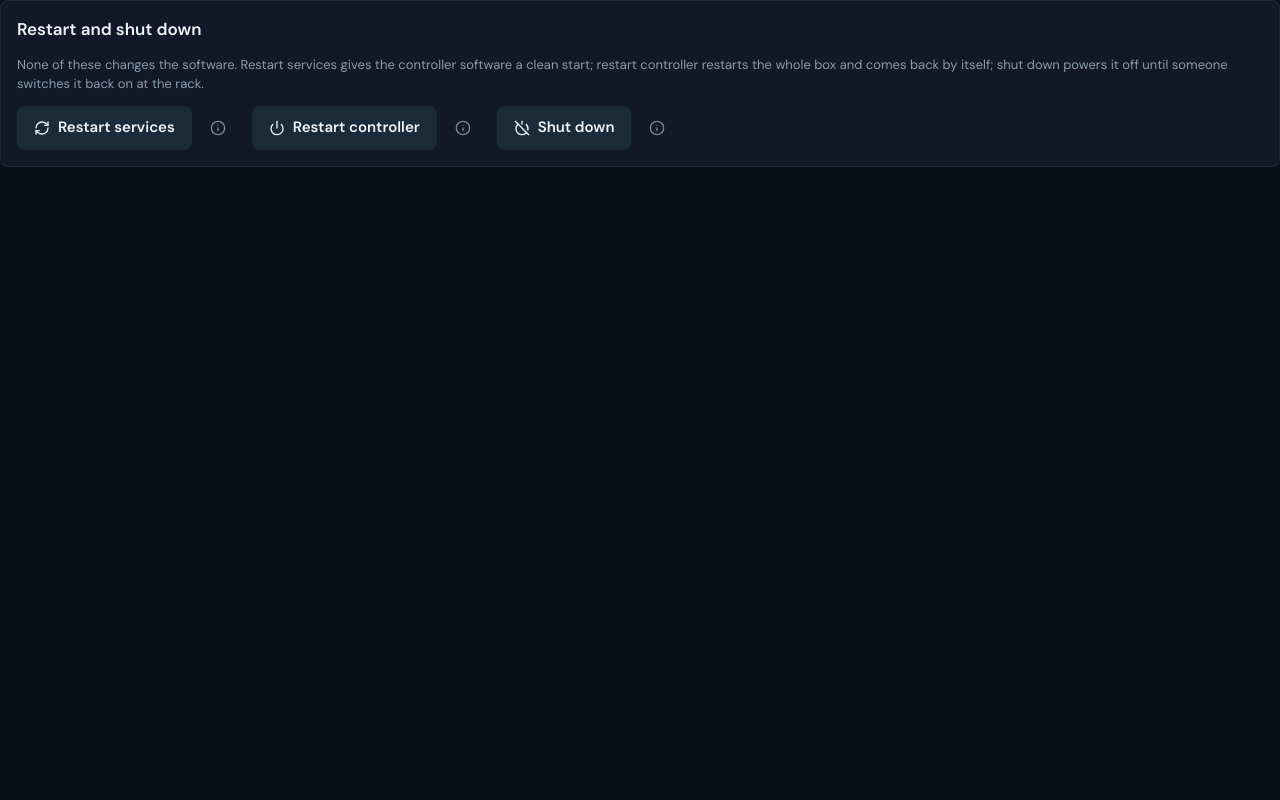
it: RestartRebootCard — restart › restarts, then waits for reconnection
Click the button "Restart services": [104, 128] box [17, 106, 192, 150]
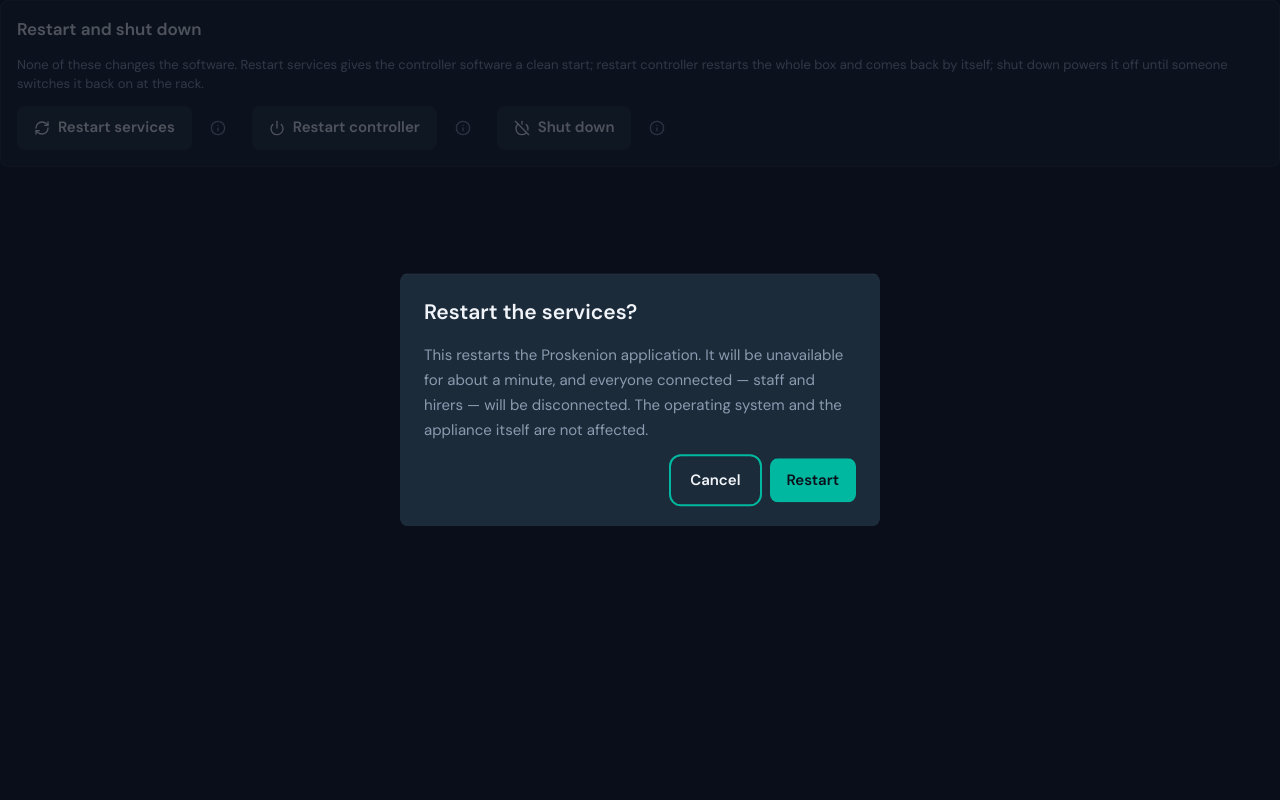
Click the button "Restart": [813, 481] box [770, 459, 856, 503]
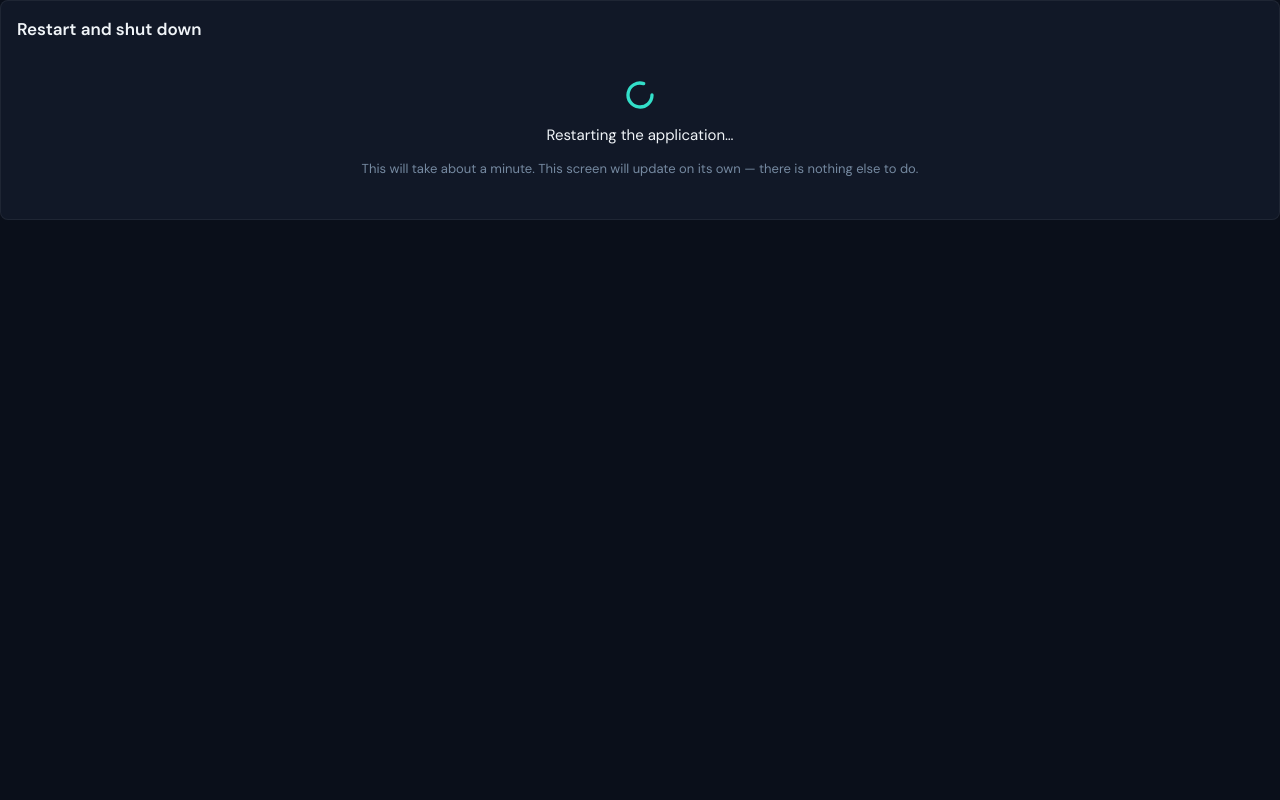
Check: the text "Restarting the application…" is shown, box [546, 122, 734, 147]
Check: the text "This will take about a minute" is shown, box [362, 160, 918, 177]
